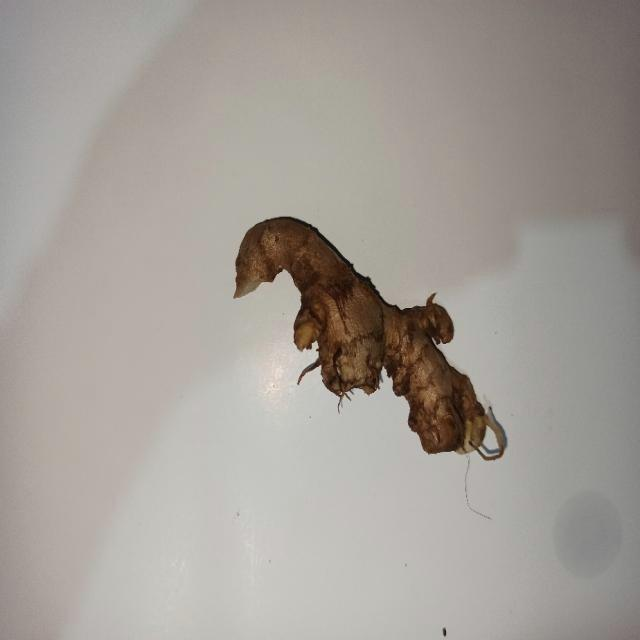ginger: (231, 217, 487, 455)
